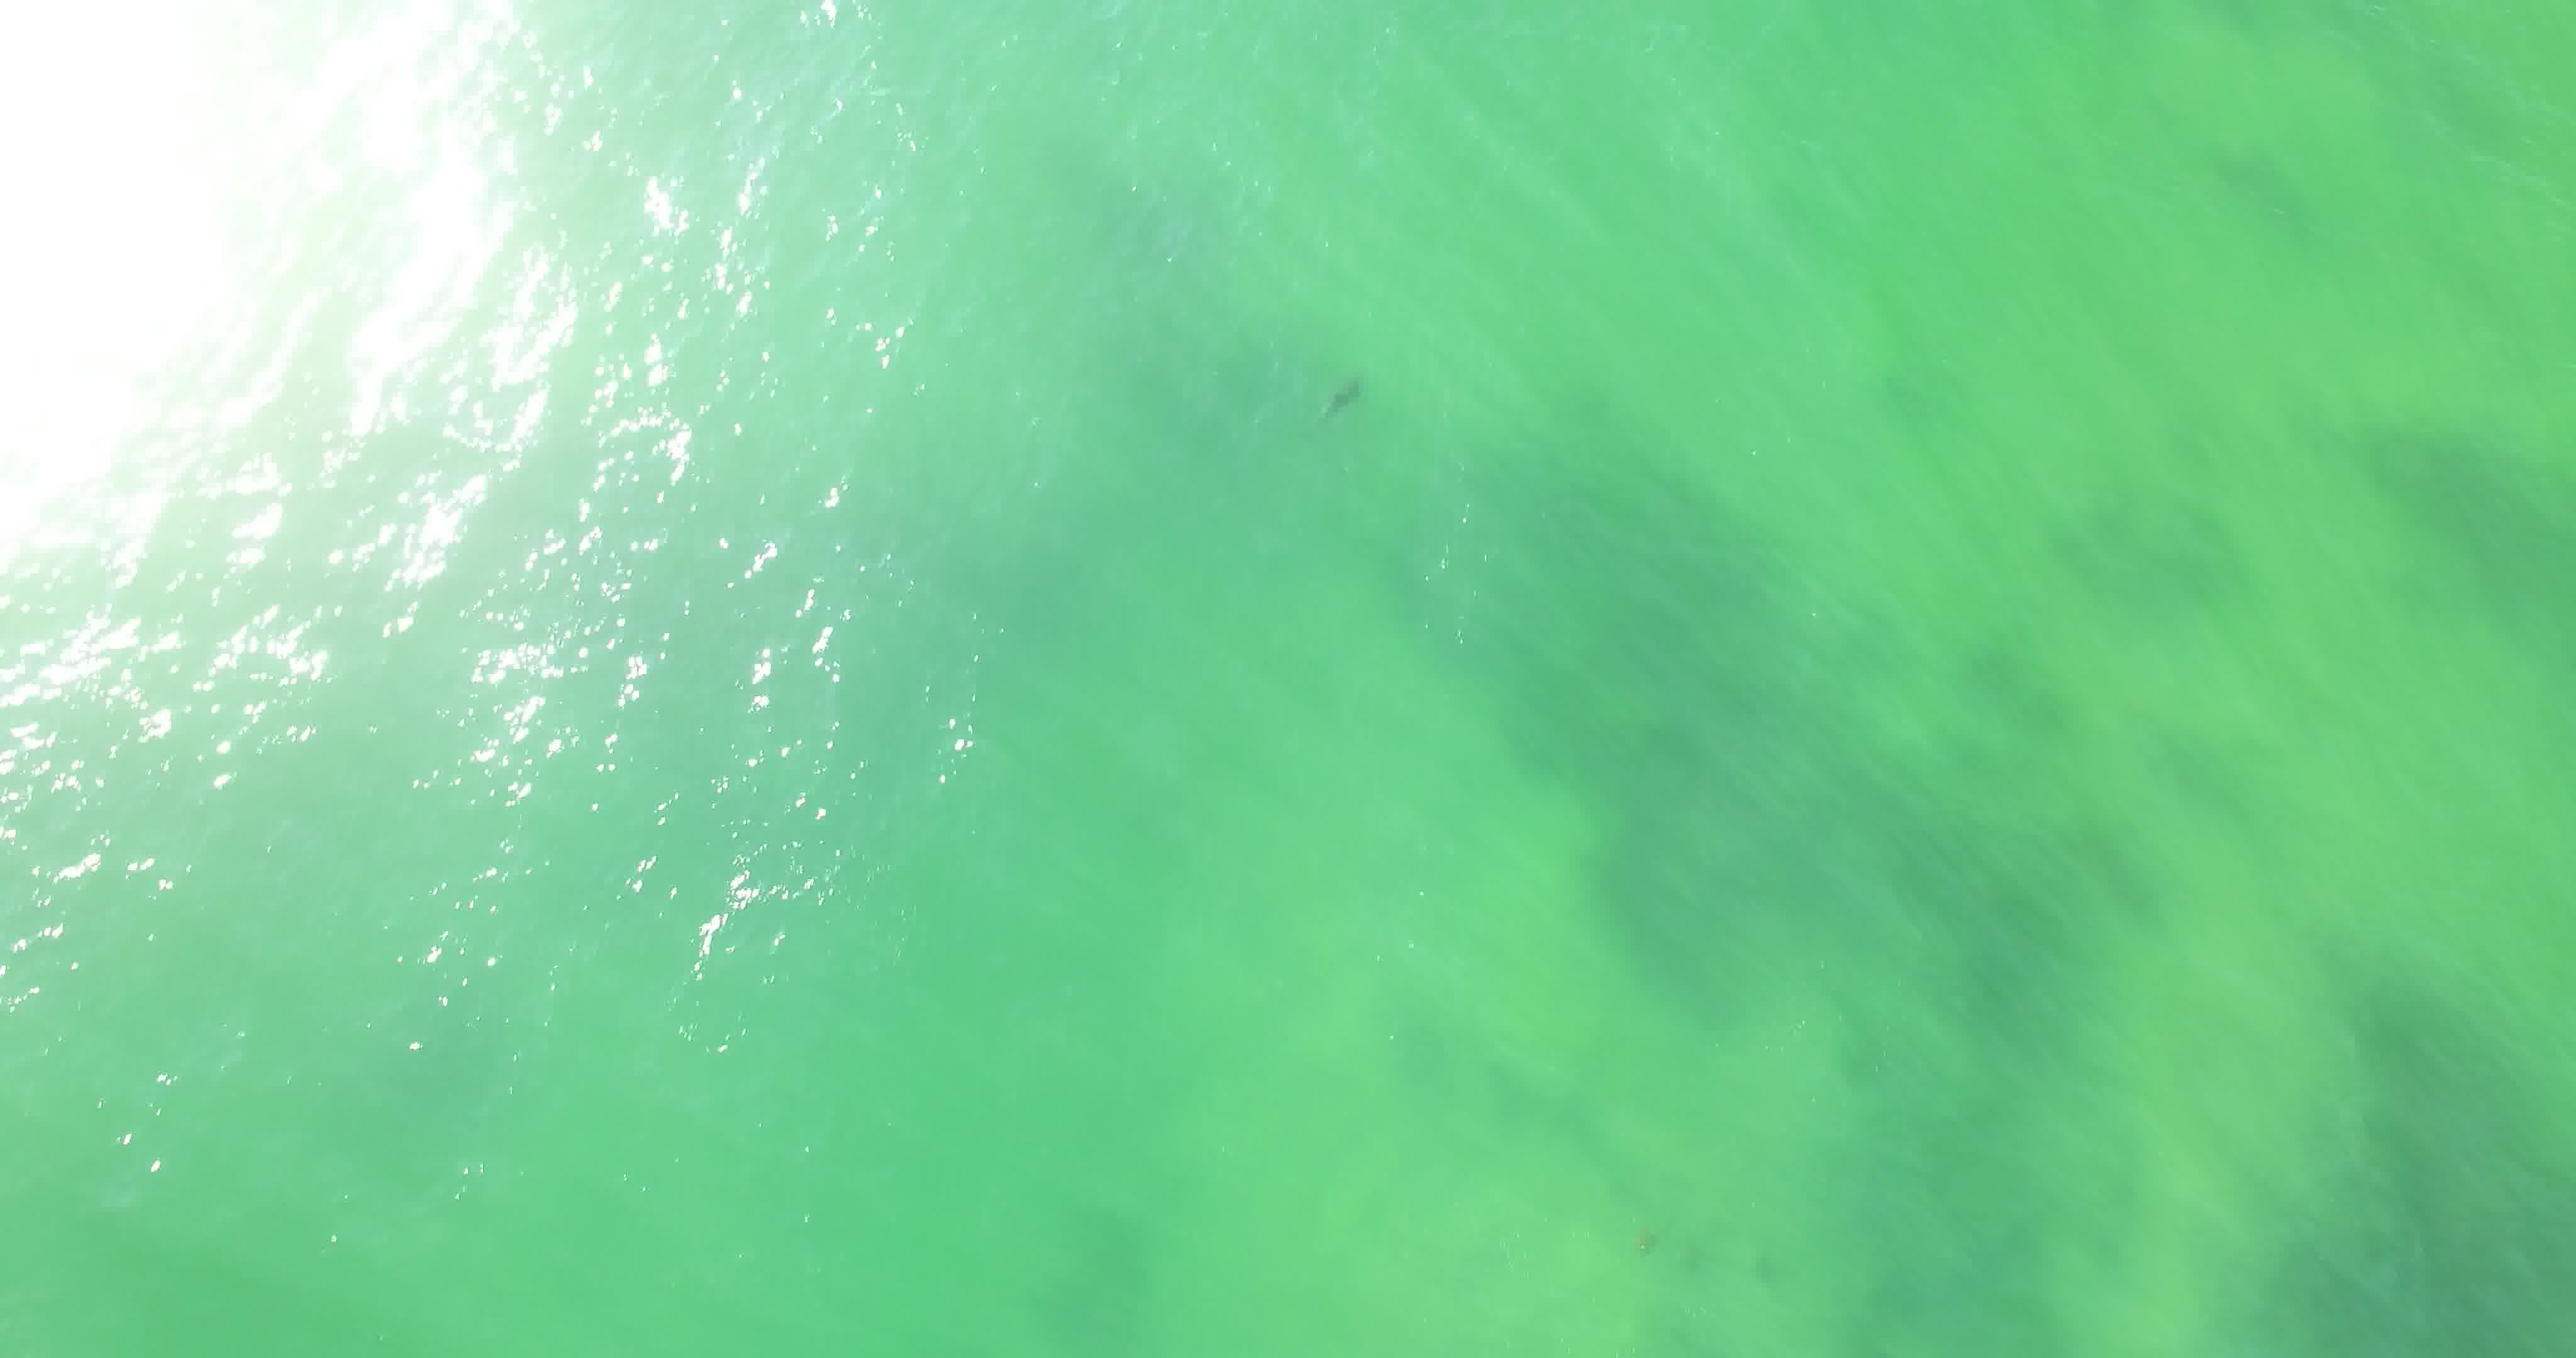dolphin: (1290, 337, 1382, 434)
